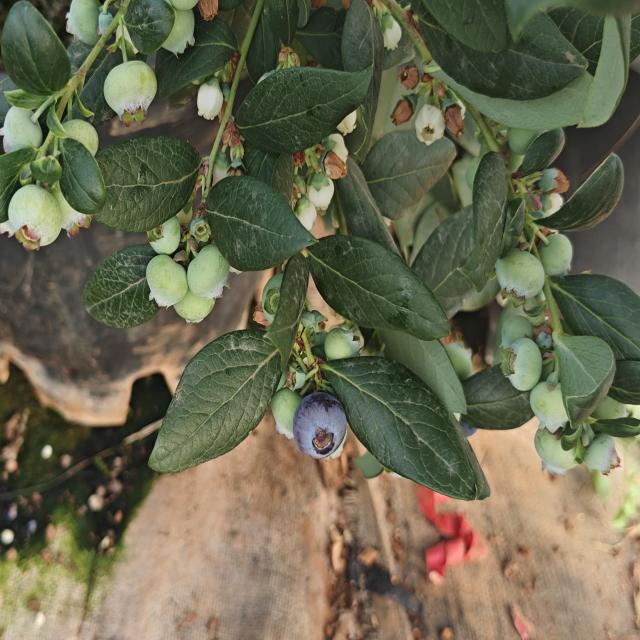ripe: (290, 381, 349, 459)
